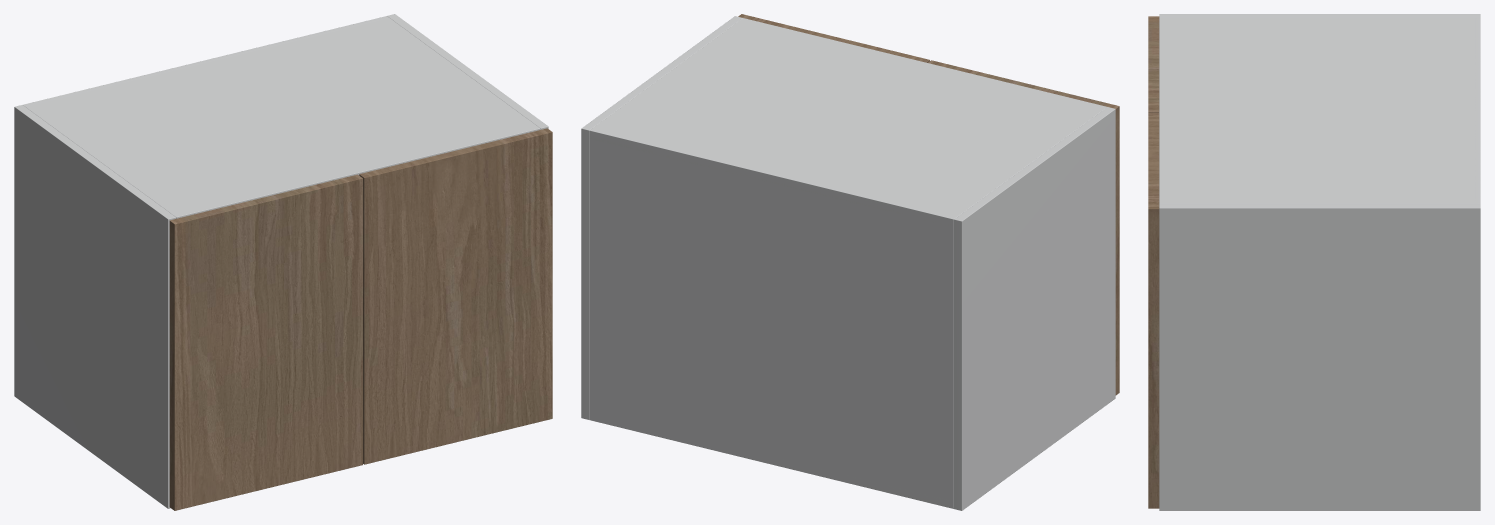
Rendered from oppein-pb-mnw-w332424.glb.
3 renders of one model, left to right at view 1: azimuth 30°, elevation 25°; view 2: azimuth 150°, elevation 25°; view 3: azimuth 270°, elevation 25°, orthographic. The views are drawn at different scales.
Parts seen in each view (by area): view 1: Door, Door.001, Cabinet top, Cabinet side, Cabinet side.001, Cabinet back; view 2: Cabinet back, Cabinet top, Cabinet side, Cabinet side.001, Door, Door.001; view 3: Cabinet side.001, Cabinet top, Door.001, Cabinet side, Cabinet back, Door.
Boxes of the visible parts, x1,y1,x2,y2 form: Door: (169,174,362,510); Door.001: (359,128,552,464); Cabinet top: (23,18,540,218); Cabinet side: (14,105,175,508); Cabinet side.001: (387,14,548,129); Cabinet back: (23,16,388,106); Cabinet back: (589,128,956,508); Cabinet top: (589,18,1106,225); Cabinet side: (954,107,1115,510); Cabinet side.001: (581,16,742,419); Door: (928,60,1119,395); Door.001: (738,14,929,62); Cabinet side.001: (1159,204,1480,510); Cabinet top: (1159,18,1480,203); Door.001: (1148,113,1159,508); Cabinet side: (1159,14,1480,18); Cabinet back: (1474,18,1480,203); Door: (1148,16,1159,112).
Bounding box in the file's own units: 0.8382 × 0.6096 × 0.6064.
2 materials, 1 textured.
